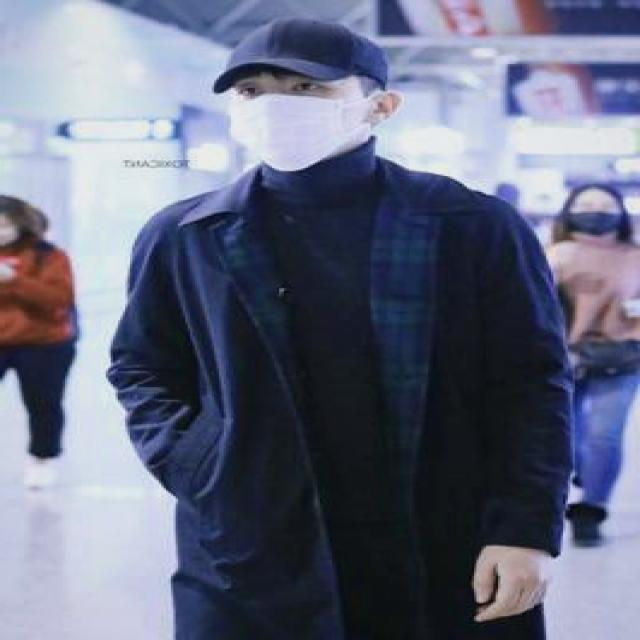face_mask: (229, 72, 363, 171), (568, 192, 625, 234)
hand_noglove: (466, 543, 564, 622)
head_nohelmet: (205, 14, 388, 92)
person: (133, 49, 544, 640), (496, 177, 640, 548)
